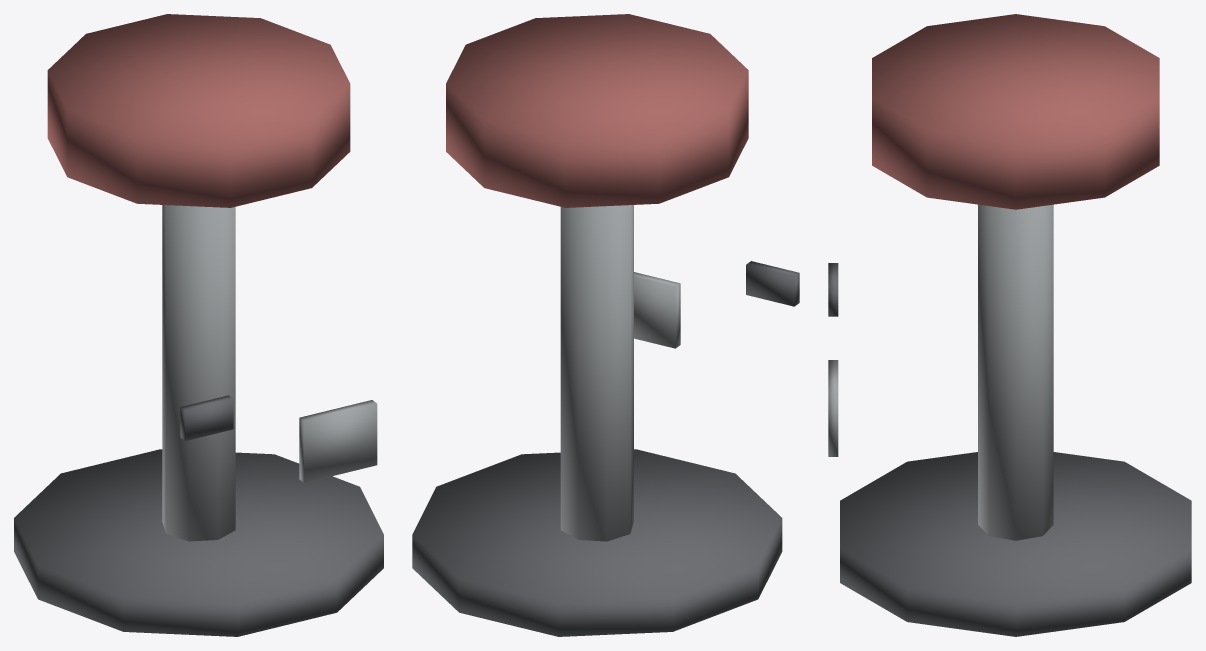
The model's file is diner_counter_stool_module__weathered.glb.
3 views of the same model, side by side, from view 1: azimuth 30°, elevation 25°; view 2: azimuth 150°, elevation 25°; view 3: azimuth 270°, elevation 25° (orthographic).
Parts seen in each view (by area): view 1: world; view 2: world; view 3: world.
Boxes of the visible parts, x1=… form: world: x1=14, y1=14, x2=383, y2=636; world: x1=412, y1=14, x2=799, y2=636; world: x1=828, y1=14, x2=1191, y2=636.
Bounding box in the file's own units: 0.44 × 0.6584 × 0.4325.
